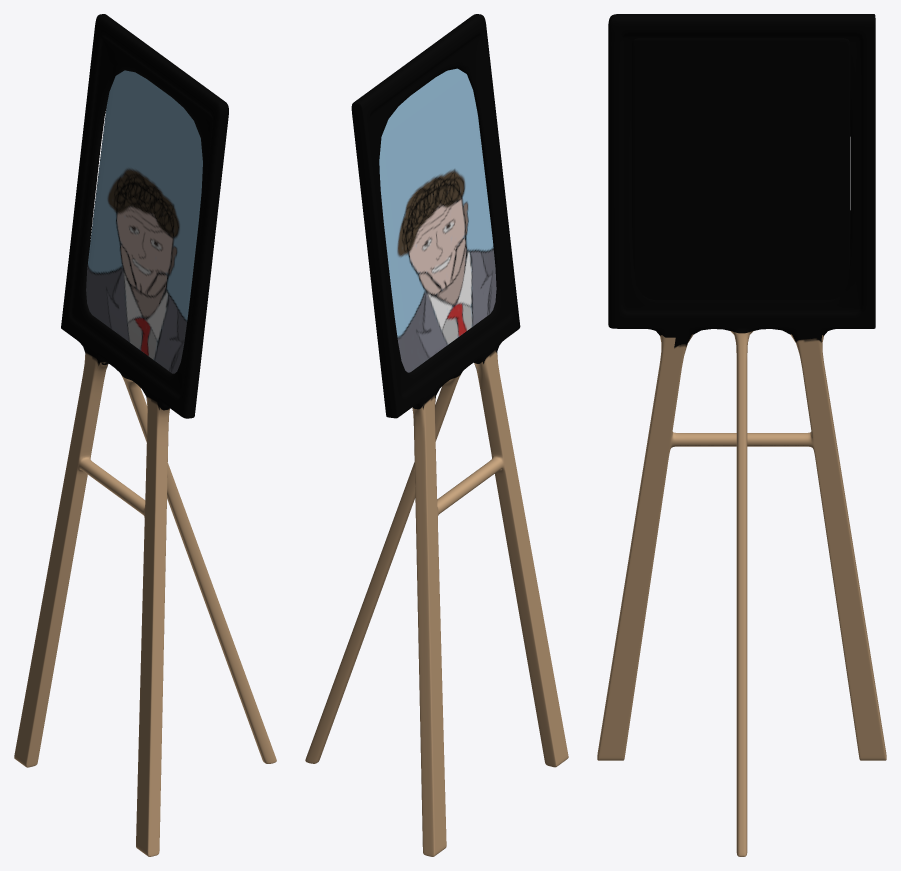
File: FINAL_PICTURE.fbx
3 renders of one model, left to right at view 1: azimuth 30°, elevation 25°; view 2: azimuth 150°, elevation 25°; view 3: azimuth 270°, elevation 25°, orthographic. The views are drawn at different scales.
Parts seen in each view (by area): view 1: Frame_Funeral, Picture; view 2: Frame_Funeral, Picture; view 3: Frame_Funeral, Picture.
Part boxes in pixels (x1,y1,x2,y2): Frame_Funeral: (14, 14, 276, 856); Picture: (86, 70, 202, 373); Frame_Funeral: (305, 14, 568, 856); Picture: (379, 68, 496, 372); Frame_Funeral: (597, 14, 886, 856); Picture: (631, 38, 850, 300).
Bounding box in the file's own units: 0.3932 × 1.41 × 0.4705.
Materials: 1 (1 with a texture image).
